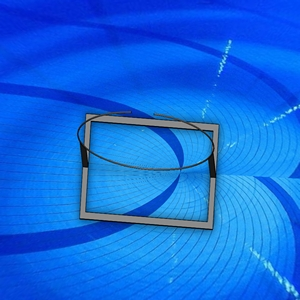circle: (76, 109, 221, 233)
